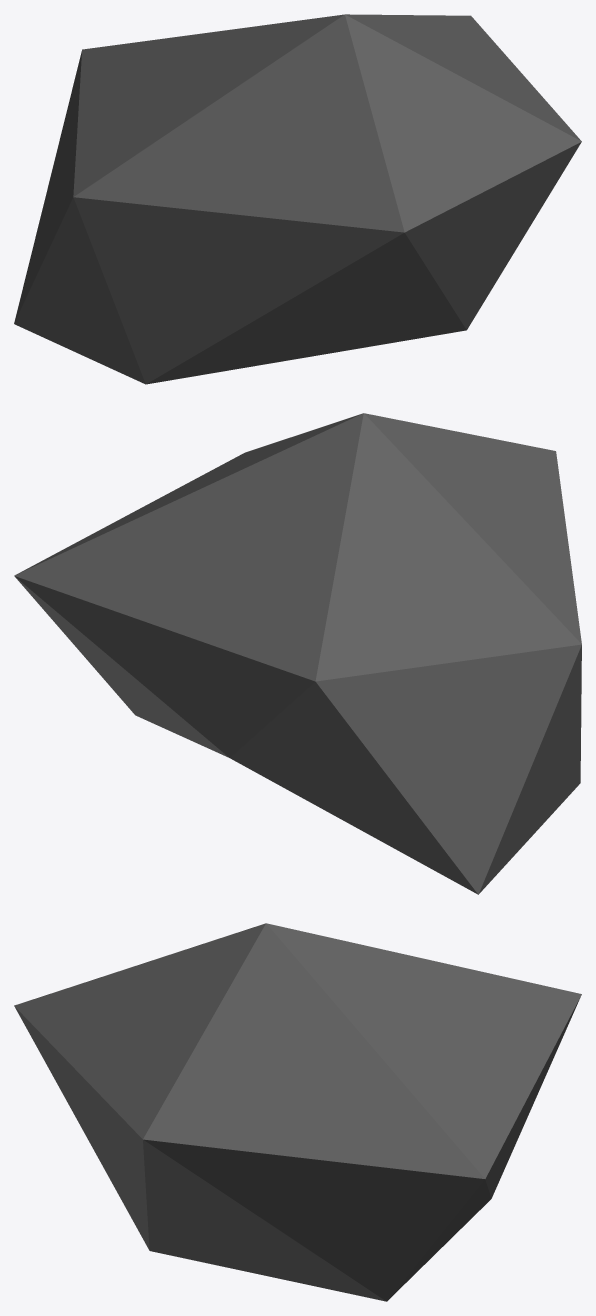
File: Rock_7.fbx
3 views of the same model, one above another, from view 1: azimuth 30°, elevation 25°; view 2: azimuth 150°, elevation 25°; view 3: azimuth 270°, elevation 25° (orthographic). The views are drawn at different scales.
Visible parts, largest first — view 1: M_Rock 7; view 2: M_Rock 7; view 3: M_Rock 7.
Boxes of the visible parts, bbox=[...] form: M_Rock 7: bbox=[14, 14, 581, 384]; M_Rock 7: bbox=[14, 413, 581, 894]; M_Rock 7: bbox=[14, 923, 581, 1301].
Bounding box in the file's own units: 0.3615 × 0.2437 × 0.3666.
1 material, 1 textured.
